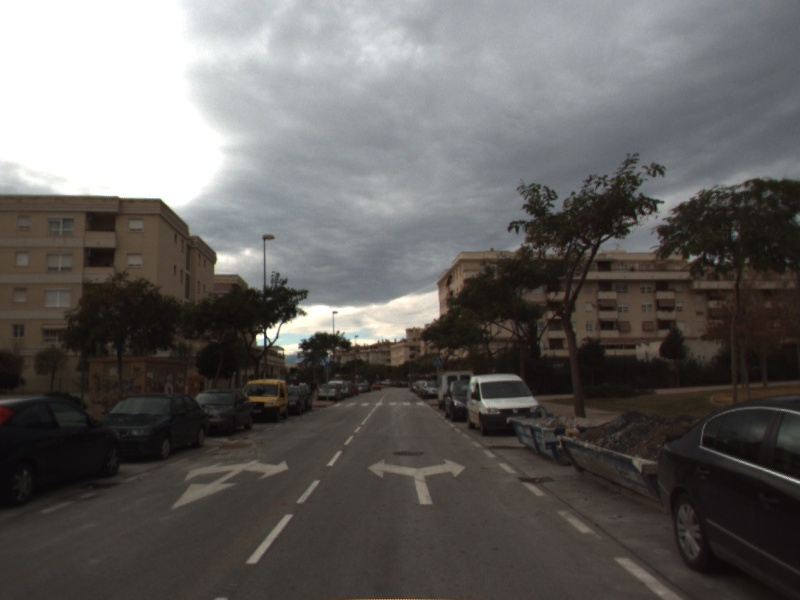LEFT_RIGHT: (365, 457, 468, 507)
